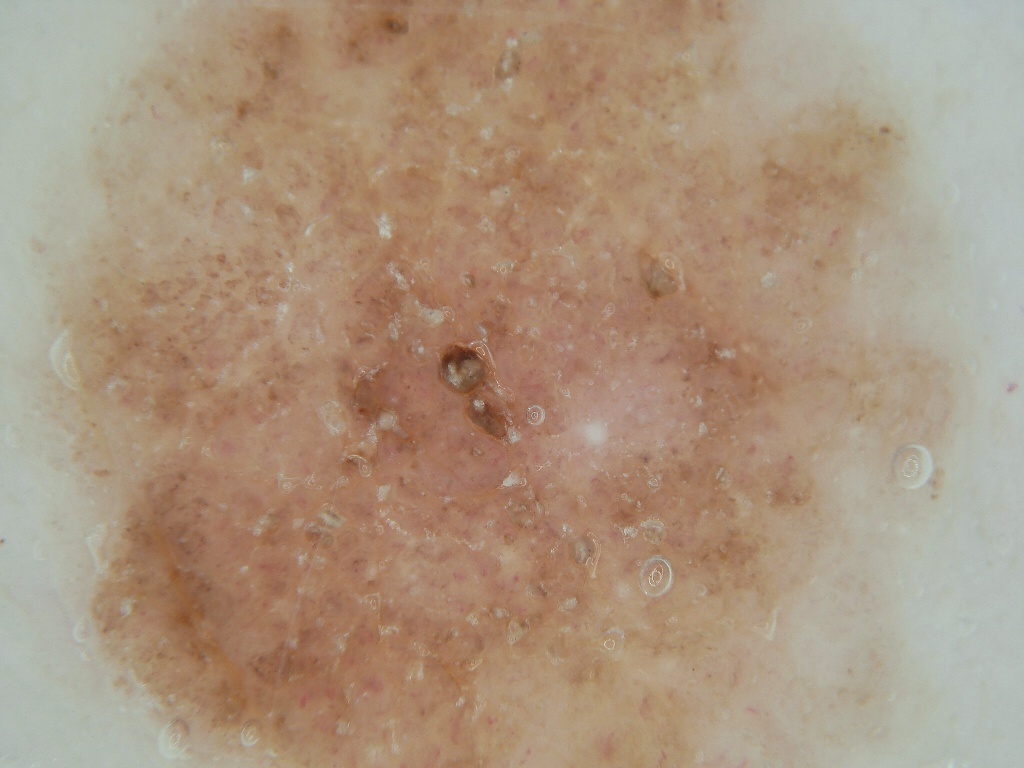Detected Lesion: (71, 2, 974, 768)
